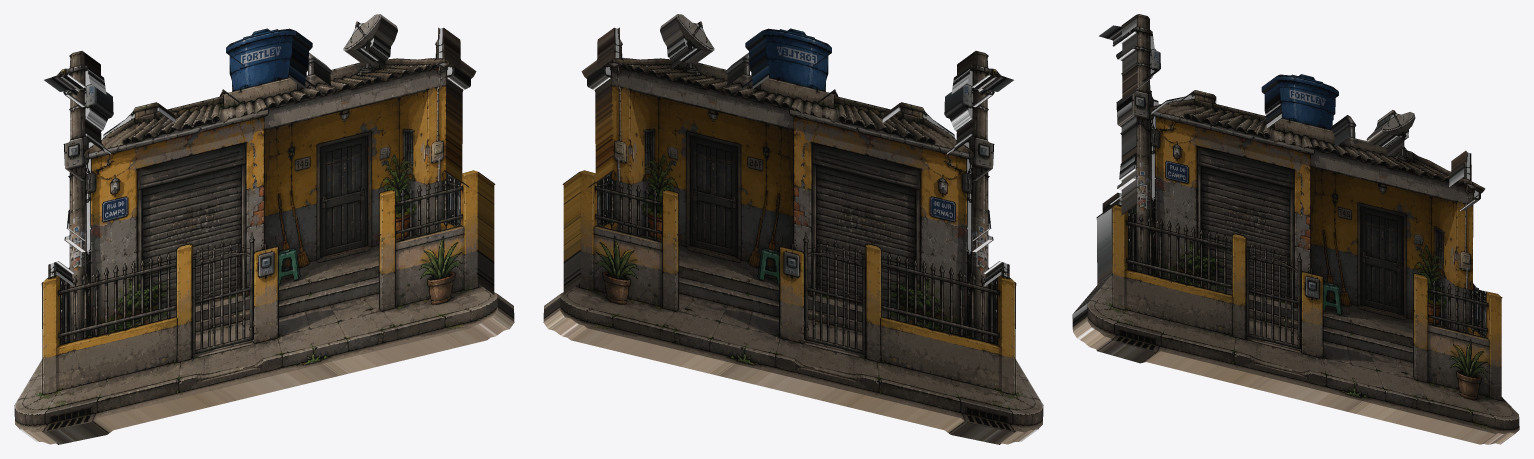
File: house_06_front.glb
3 renders of one model, left to right at view 1: azimuth 30°, elevation 25°; view 2: azimuth 150°, elevation 25°; view 3: azimuth 330°, elevation 25°, orthographic. The views are drawn at different scales.
Parts seen in each view (by area): view 1: world; view 2: world; view 3: world.
Part boxes in pixels (<box>): world: <box>14,14,514,444</box>; world: <box>543,14,1043,444</box>; world: <box>1072,14,1519,444</box>.
Bounding box in the file's own units: 8.14 × 6.02 × 0.4824.
Materials: 1 (1 with a texture image).
